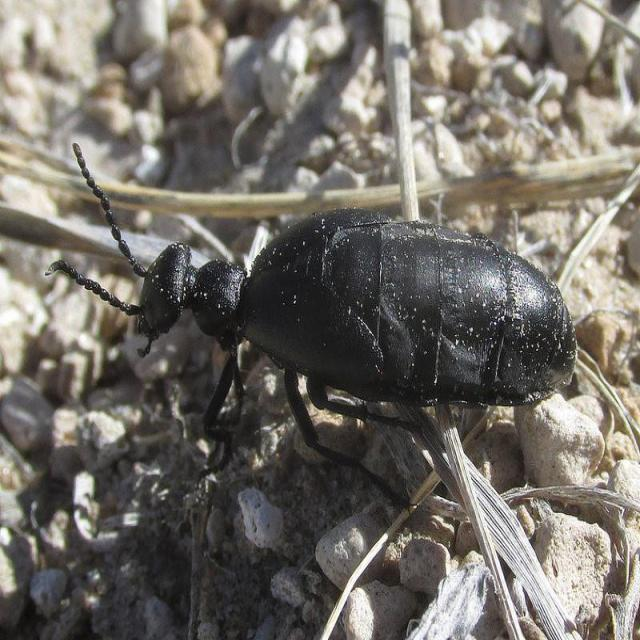BlisterBeetle-Adult-: (29, 118, 596, 456)
